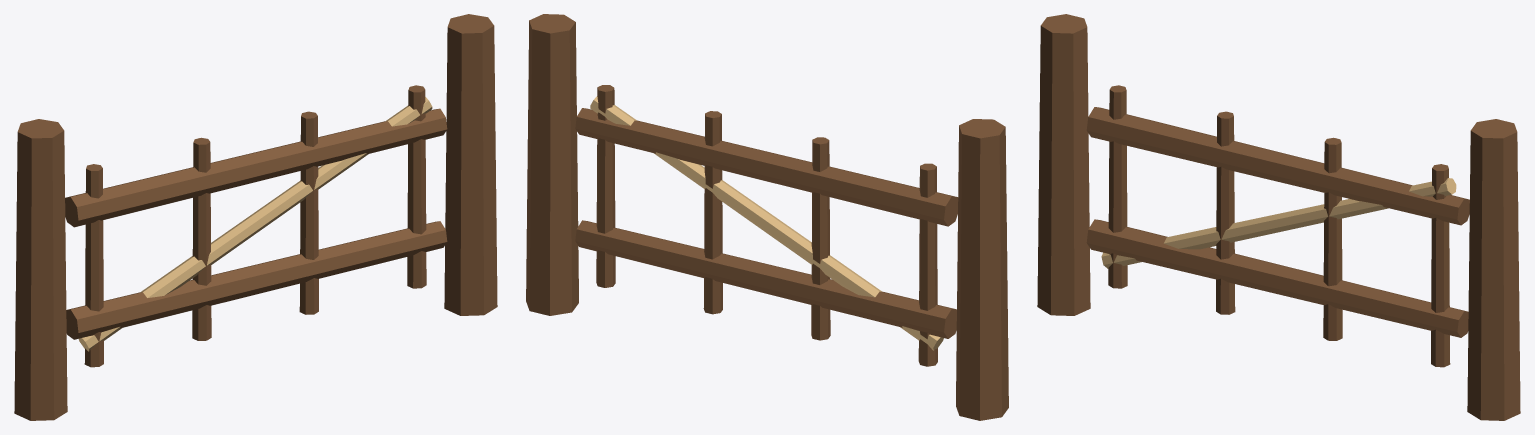
File: CC_RanchGate.fbx
3 renders of one model, left to right at view 1: azimuth 30°, elevation 25°; view 2: azimuth 150°, elevation 25°; view 3: azimuth 330°, elevation 25°, orthographic.
Parts seen in each view (by area): view 1: Post.006, Post.007, Gate rail.001, Gate rail, Diagonal, Gate twig.003, Gate twig.002, Gate twig.001, Gate twig; view 2: Post.006, Post.007, Gate rail.001, Gate rail, Diagonal, Gate twig.003, Gate twig.002, Gate twig, Gate twig.001; view 3: Post.007, Post.006, Gate rail.001, Gate rail, Diagonal, Gate twig.003, Gate twig.002, Gate twig, Gate twig.001.
Boxes of the visible parts, left/top/right/bottom form: Post.006: left=14, top=119, right=67, bottom=420; Post.007: left=444, top=14, right=497, bottom=315; Gate rail.001: left=65, top=108, right=447, bottom=227; Gate rail: left=66, top=221, right=447, bottom=339; Diagonal: left=78, top=97, right=432, bottom=351; Gate twig.003: left=407, top=85, right=426, bottom=288; Gate twig.002: left=299, top=111, right=318, bottom=314; Gate twig.001: left=192, top=137, right=211, bottom=340; Gate twig: left=84, top=164, right=103, bottom=367; Post.006: left=956, top=119, right=1008, bottom=420; Post.007: left=526, top=14, right=578, bottom=315; Gate rail.001: left=575, top=108, right=958, bottom=226; Gate rail: left=575, top=220, right=956, bottom=338; Diagonal: left=590, top=96, right=943, bottom=350; Gate twig.003: left=596, top=85, right=615, bottom=287; Gate twig.002: left=703, top=111, right=722, bottom=314; Gate twig: left=918, top=163, right=937, bottom=366; Gate twig.001: left=811, top=137, right=830, bottom=340; Post.007: left=1467, top=119, right=1520, bottom=420; Post.006: left=1037, top=14, right=1090, bottom=315; Gate rail.001: left=1086, top=107, right=1469, bottom=225; Gate rail: left=1086, top=219, right=1468, bottom=337; Diagonal: left=1101, top=178, right=1456, bottom=268; Gate twig.003: left=1431, top=164, right=1450, bottom=367; Gate twig.002: left=1323, top=137, right=1342, bottom=340; Gate twig: left=1108, top=85, right=1127, bottom=288; Gate twig.001: left=1216, top=111, right=1235, bottom=314.
Size of the model in its own units: 3.32 by 1.88 by 0.3137.
